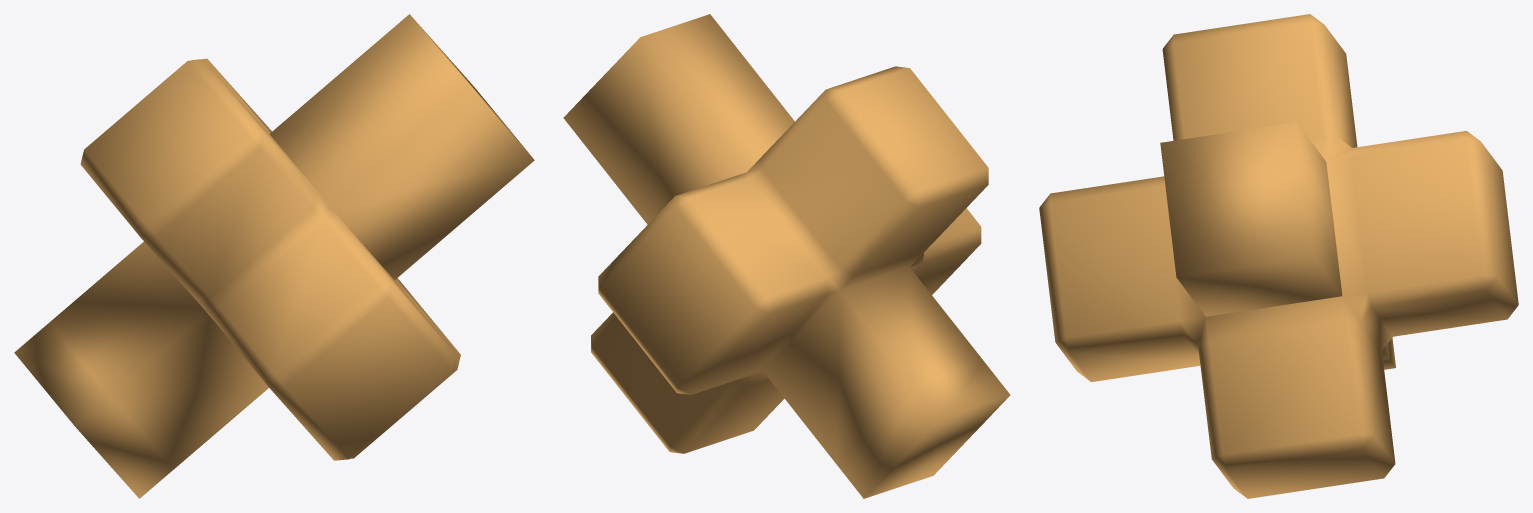
The model's file is shotsize up.glb.
The picture shows the model from 3 angles, left to right: view 1: azimuth 30°, elevation 25°; view 2: azimuth 150°, elevation 25°; view 3: azimuth 270°, elevation 25°; orthographic projection. The views are drawn at different scales.
Parts seen in each view (by area): view 1: Cube.001; view 2: Cube.001; view 3: Cube.001.
Part boxes in pixels (box(x1,y1,x2,y2)): Cube.001: box(14, 14, 534, 498); Cube.001: box(563, 14, 1010, 498); Cube.001: box(1039, 14, 1518, 498).
Size of the model in its own units: 0.3149 by 0.2834 by 0.2953.
